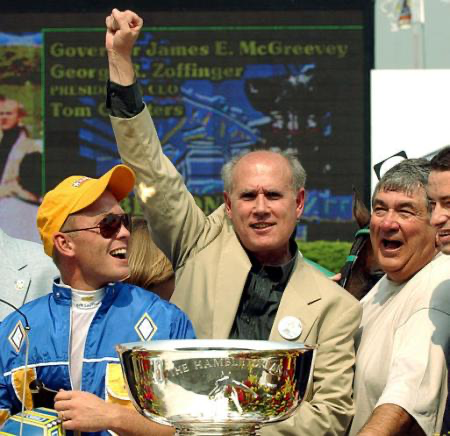Face: (229, 170, 297, 252), (367, 190, 426, 276), (86, 198, 140, 282)
